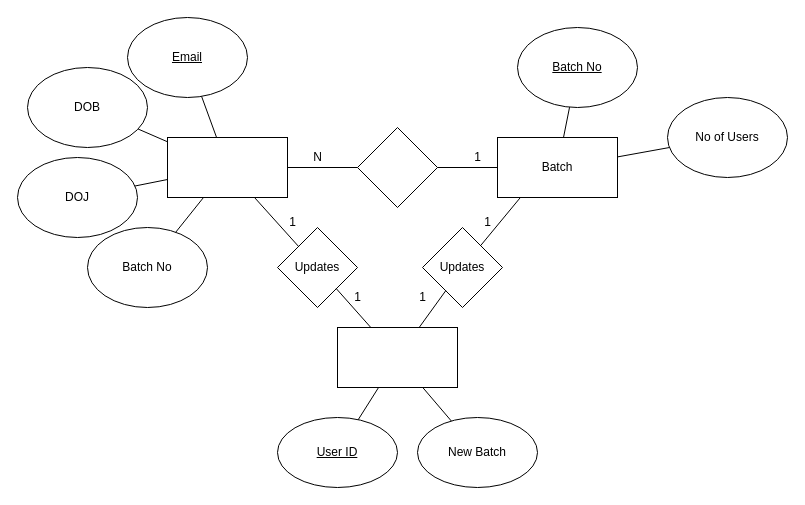
This 805x505 diagram has some shape labels left out. The box of each missing label's shape, as (x1, y1, x2, y2) in pixels:
Books: (356, 126, 438, 208)
User: (166, 136, 288, 198)
User Updates: (336, 326, 458, 388)
